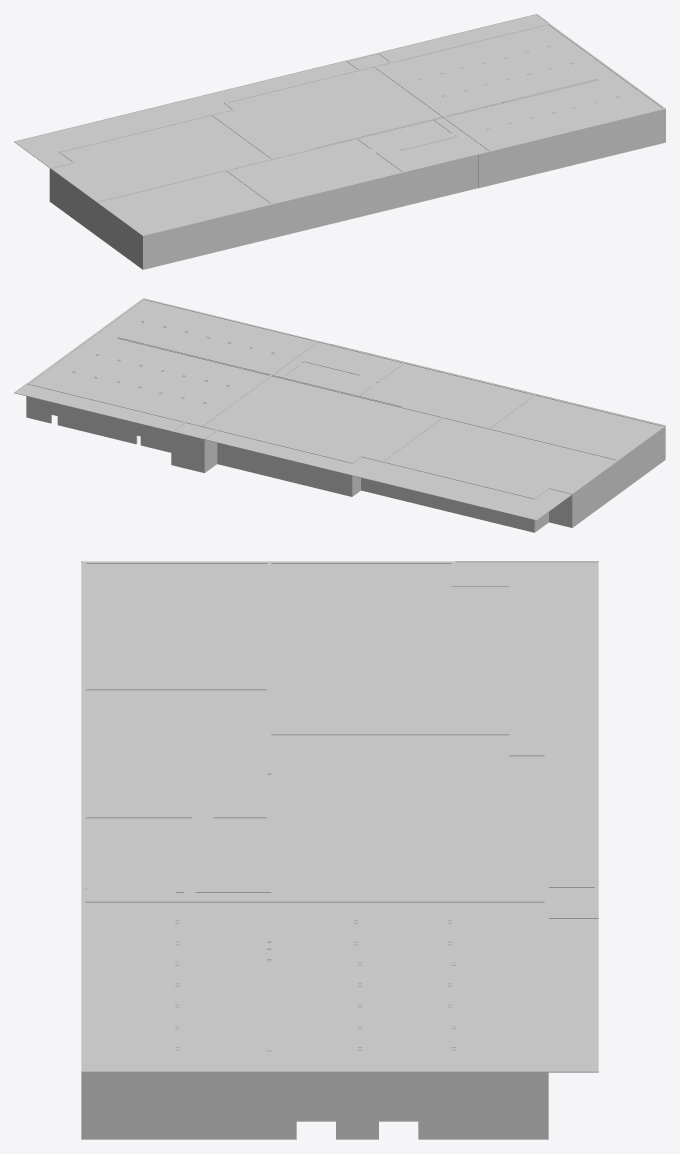
The model's file is Walls.fbx.
3 renders of one model, top to bottom at view 1: azimuth 30°, elevation 25°; view 2: azimuth 150°, elevation 25°; view 3: azimuth 270°, elevation 25°, orthographic. The views are drawn at different scales.
Visible parts, largest first — view 1: Roof, Walls, CABARET, Cube.006, Cube.007, PLAZA, SALLE DES SUCRES, Cube.047; view 2: Roof, Walls, PLAZA, SALLE DES SUCRES, CABARET; view 3: Roof, Walls, SALLE DES SUCRES, PLAZA, CABARET.
Part boxes in pixels (x1=…): Roof: x1=14, y1=14, x2=665, y2=236; Walls: x1=346, y1=23, x2=665, y2=185; CABARET: x1=95, y1=170, x2=273, y2=269; Cube.006: x1=273, y1=172, x2=403, y2=237; Cube.007: x1=404, y1=153, x2=477, y2=205; PLAZA: x1=49, y1=114, x2=271, y2=234; SALLE DES SUCRES: x1=211, y1=65, x2=443, y2=159; Cube.047: x1=477, y1=151, x2=490, y2=188; Roof: x1=14, y1=299, x2=665, y2=520; Walls: x1=26, y1=298, x2=318, y2=473; PLAZA: x1=382, y1=417, x2=618, y2=532; SALLE DES SUCRES: x1=200, y1=375, x2=443, y2=496; CABARET: x1=489, y1=394, x2=665, y2=493; Roof: x1=81, y1=561, x2=598, y2=1072; Walls: x1=81, y1=885, x2=598, y2=1139; SALLE DES SUCRES: x1=267, y1=732, x2=548, y2=902; PLAZA: x1=267, y1=561, x2=512, y2=733; CABARET: x1=82, y1=561, x2=272, y2=688.
Bounding box in the file's own units: 122 × 7.6 × 52.47.
1 material, 1 textured.
